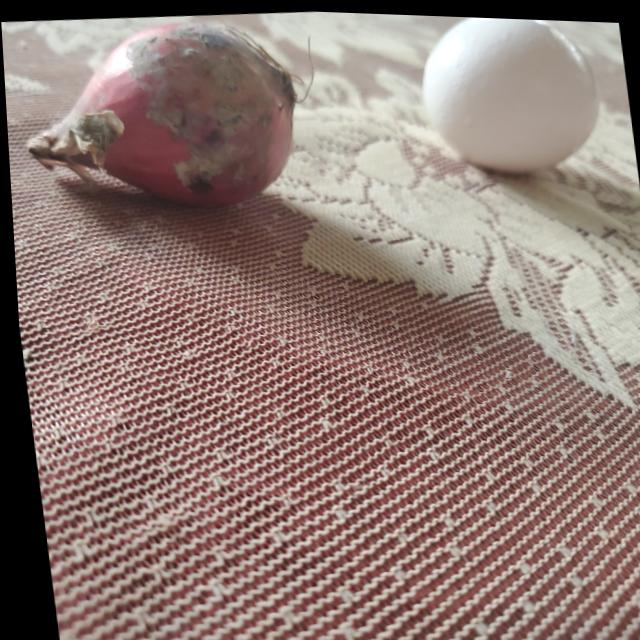egg: (411, 12, 611, 176)
onion: (20, 6, 301, 214)
